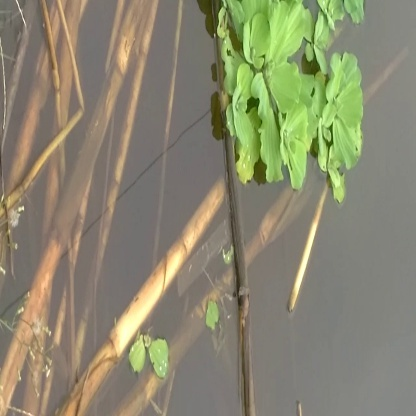leaf: (215, 9, 370, 194)
